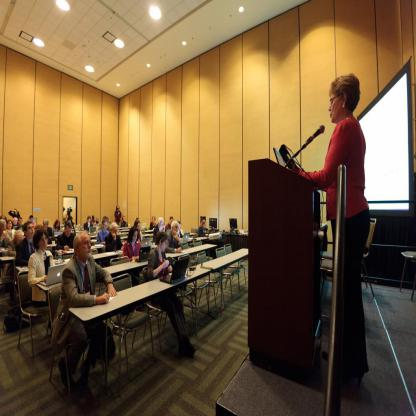face: (329, 94, 343, 123), (80, 237, 92, 257), (40, 234, 49, 249), (28, 224, 35, 237), (162, 239, 168, 253), (66, 226, 72, 238), (133, 232, 139, 243), (1, 225, 7, 235), (174, 224, 179, 235), (113, 229, 119, 237), (19, 236, 24, 244), (2, 217, 6, 225), (8, 222, 13, 228), (104, 223, 108, 230), (15, 219, 19, 225), (138, 224, 141, 232), (20, 219, 23, 225), (45, 224, 48, 230), (171, 219, 174, 225), (180, 224, 183, 230), (57, 223, 60, 228), (32, 219, 35, 224), (88, 219, 91, 224), (117, 207, 120, 212), (205, 223, 208, 228), (98, 218, 100, 223), (154, 219, 156, 224), (93, 216, 95, 221), (124, 218, 126, 221), (138, 220, 140, 223)
